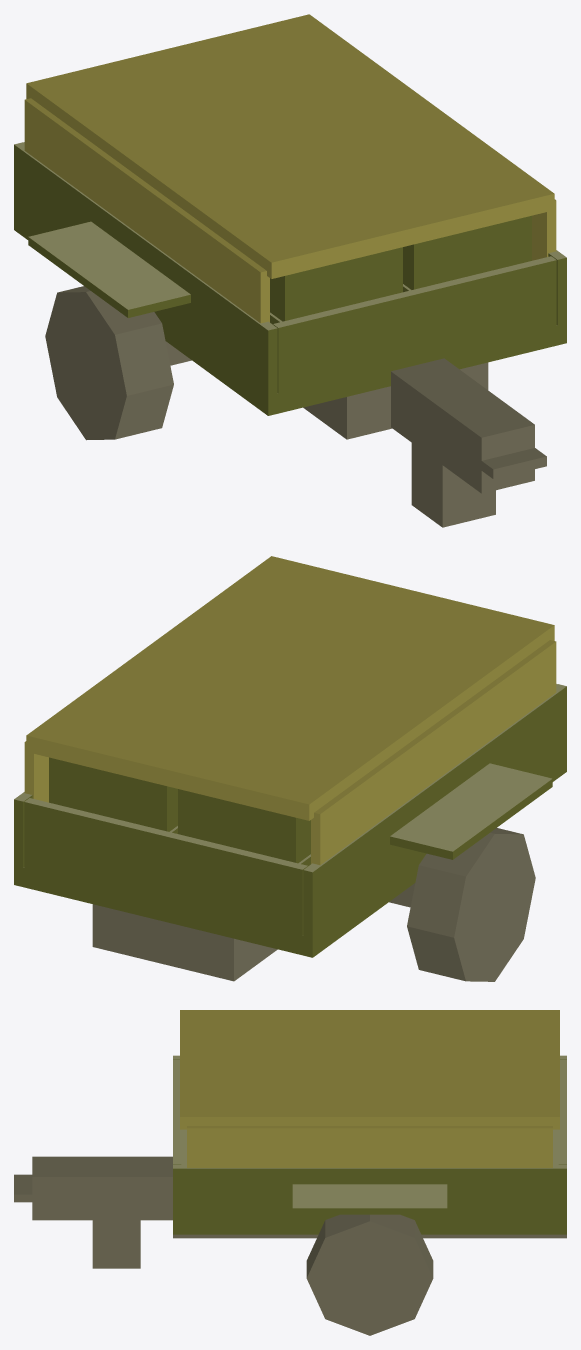
File: SM_RemolqueMunicion_v3_Tapado_LOD1.fbx
The picture shows the model from 3 angles, top to bottom: view 1: azimuth 30°, elevation 25°; view 2: azimuth 150°, elevation 25°; view 3: azimuth 270°, elevation 25°; orthographic projection. The views are drawn at different scales.
Visible parts, largest first — view 1: SM_remolque_municion_v3_LOD1; view 2: SM_remolque_municion_v3_LOD1; view 3: SM_remolque_municion_v3_LOD1.
Part boxes in pixels (x1=…): SM_remolque_municion_v3_LOD1: x1=14, y1=14, x2=566, y2=527; SM_remolque_municion_v3_LOD1: x1=14, y1=556, x2=566, y2=981; SM_remolque_municion_v3_LOD1: x1=14, y1=1010, x2=566, y2=1335.
Bounding box in the file's own units: 2.7 × 1.53 × 3.93.
